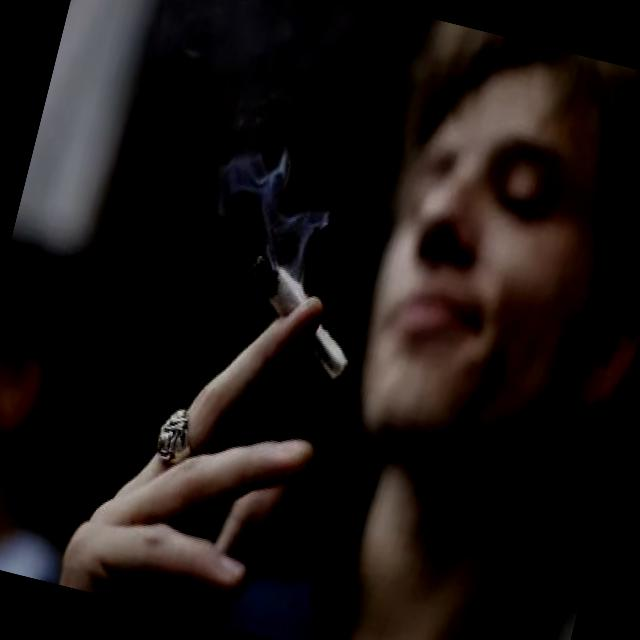cigarette: (222, 245, 371, 391)
